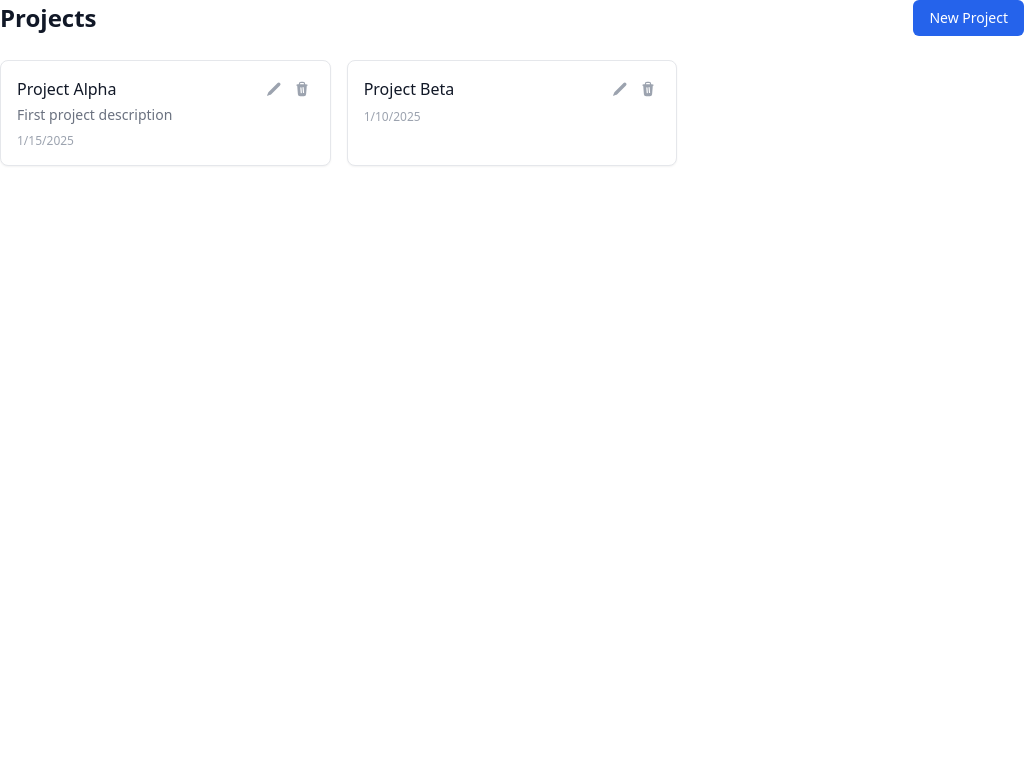
DashboardPage › opens edit modal when edit button is clicked on a project card
What coordinates should you click on to do the following:
click the button named "Edit project" next to "Project Alpha"
I would click on:
 (274, 89)
Its box is [262,77,286,101].
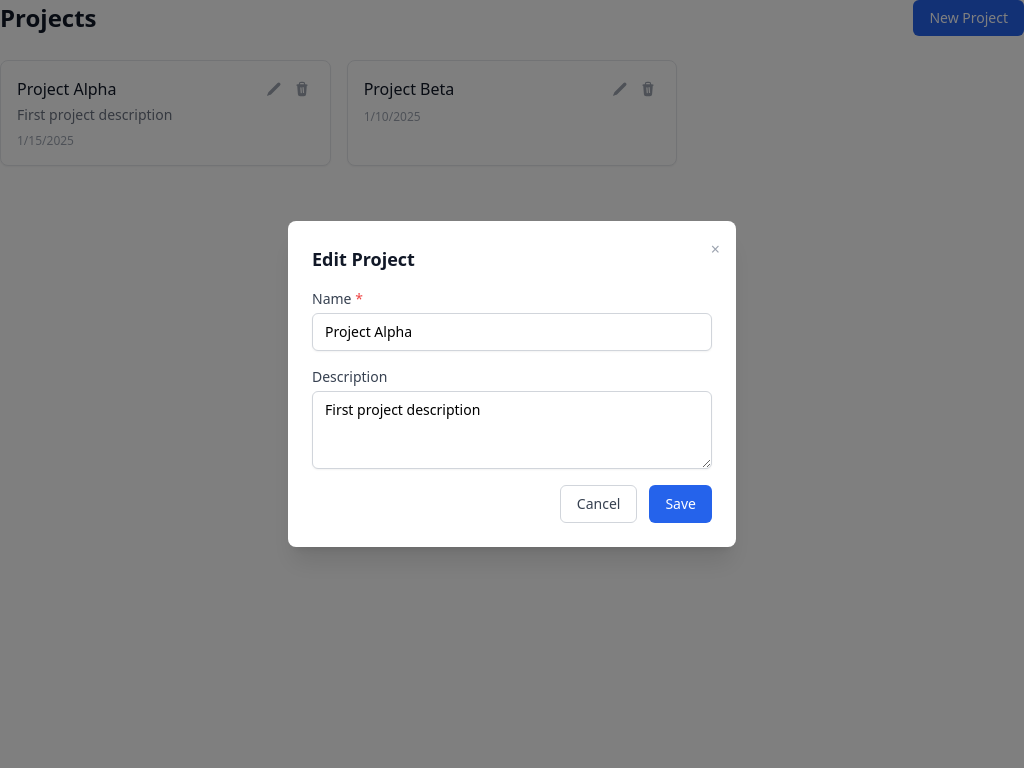
Expected: the heading "Edit Project" is shown, [312,247,415,271]
Expected: the field showing "Project Alpha" is shown, [312,313,712,351]
